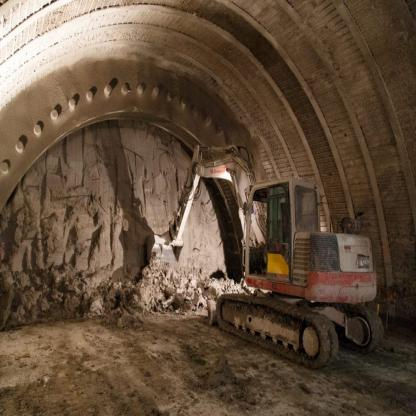excavator: (134, 124, 392, 376)
